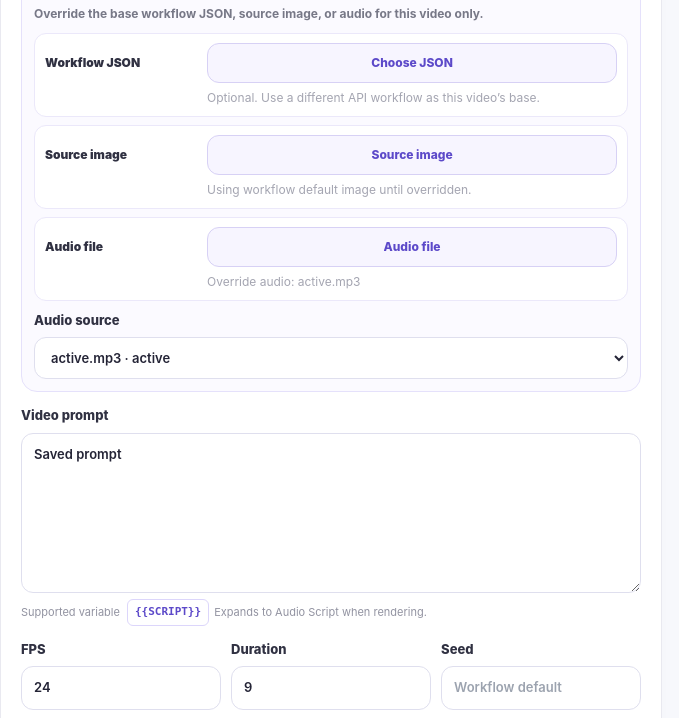
it: CreateVideoPanel › updates LTX duration to selected audio duration plus one second
(page scrolled)
Expected: the field labelled "Duration" holds "9", [231,666,431,710]
Select "alternate.mp3" in the dropdown labelled "Audio source". click: (331, 358)
box: [34,337,628,379]
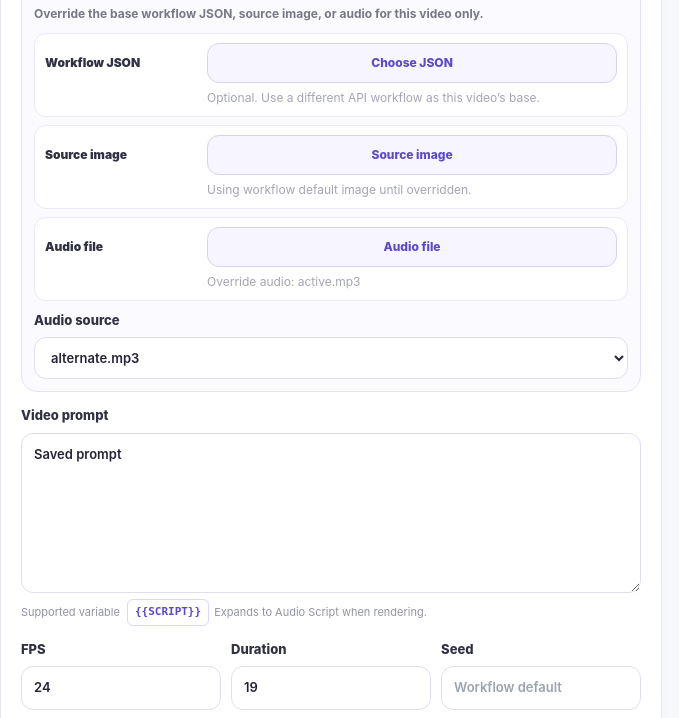
Expected: the field labelled "Duration" holds "19", [231,666,431,710]
